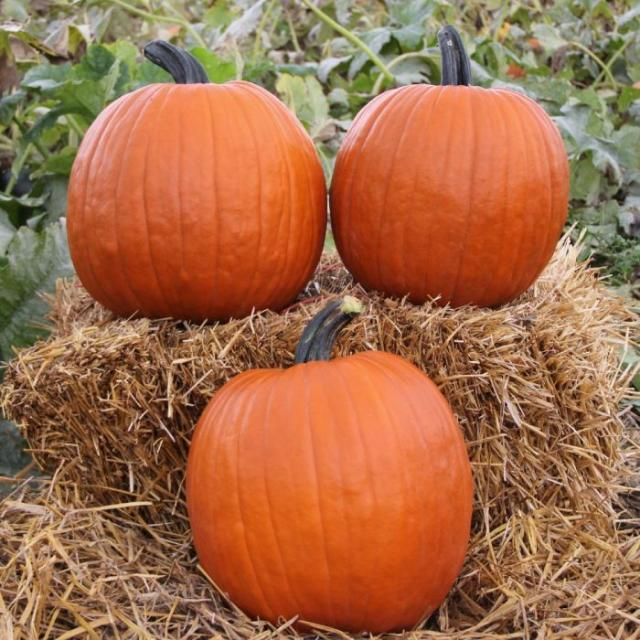pumpkin: (188, 300, 472, 632), (68, 41, 325, 318), (332, 28, 568, 306)
